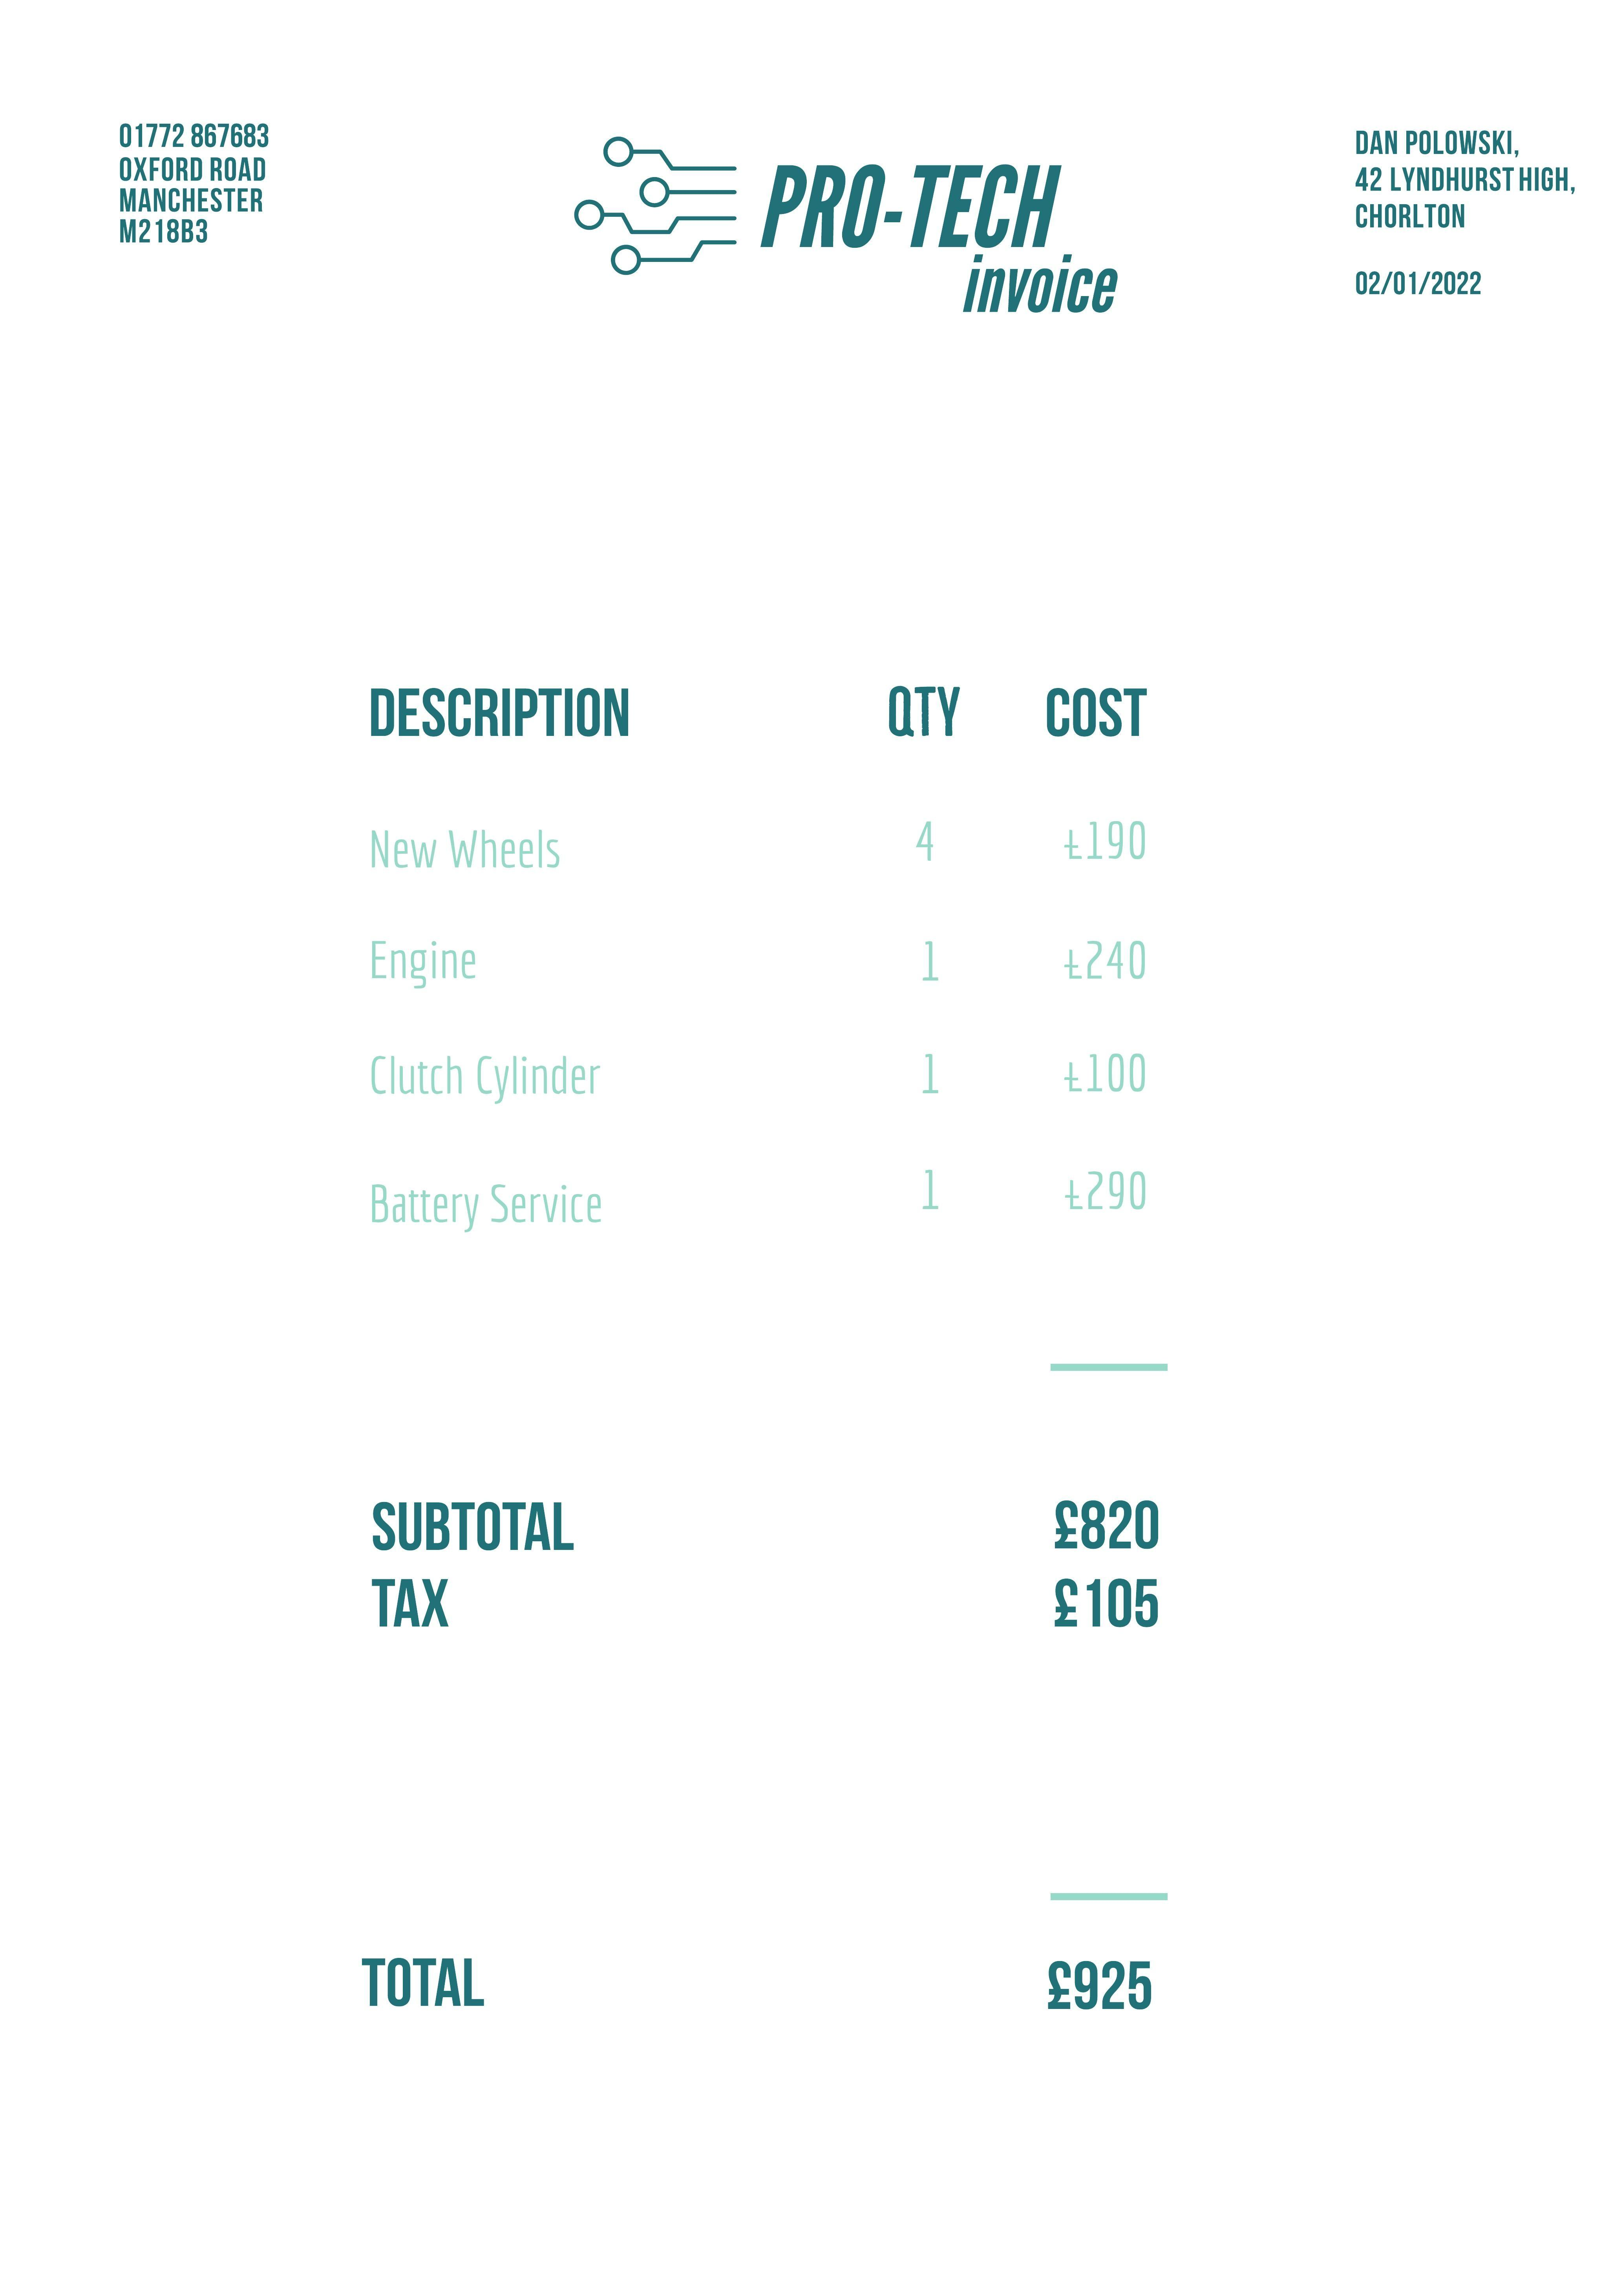ROI: (364, 1488, 1187, 2034), (358, 676, 1156, 1228), (109, 86, 1140, 336), (1342, 121, 1590, 239), (1342, 271, 1498, 306)
